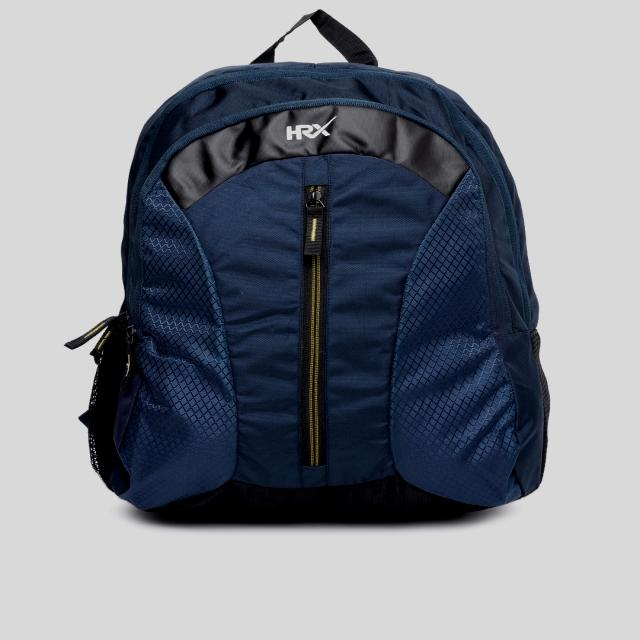backpack: (66, 10, 552, 516)
